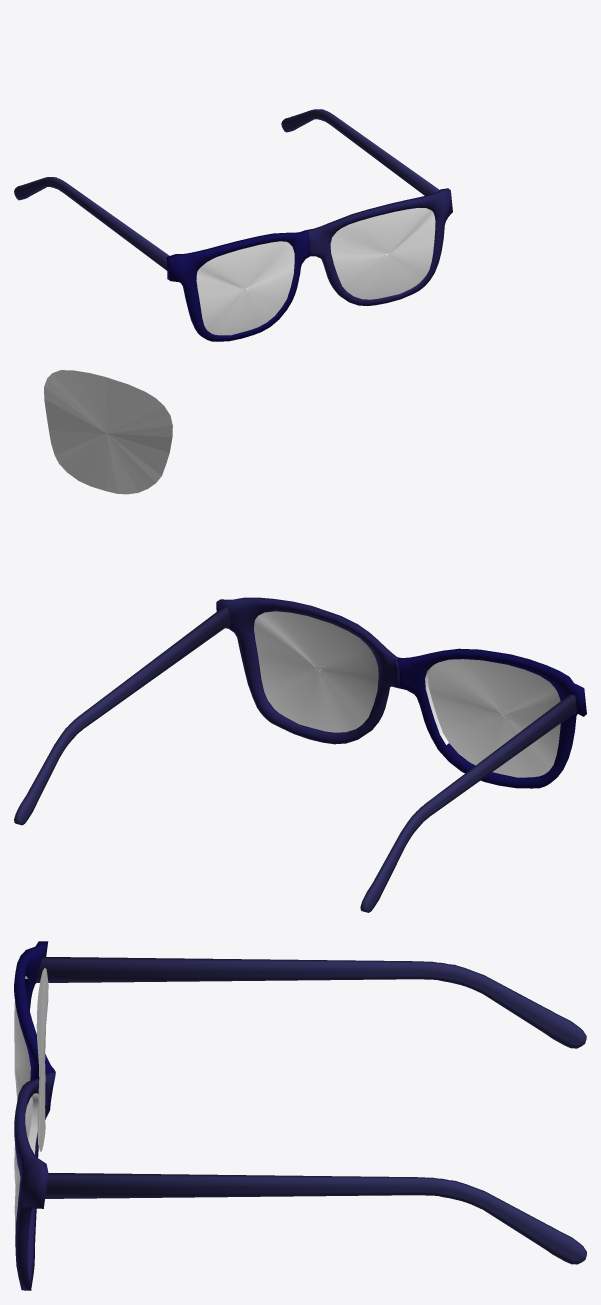
Rendered from asset.glb.
3 views of the same model, one above another, from view 1: azimuth 30°, elevation 25°; view 2: azimuth 150°, elevation 25°; view 3: azimuth 270°, elevation 25° (orthographic). The views are drawn at different scales.
Parts seen in each view (by area): view 1: lens, lens.001, marco.001, marco, Plane.002, Plane.001; view 2: Circle.001, lens, lens.001, marco, marco.001, Plane.002, Plane.001; view 3: Plane.002, Plane.001, marco, marco.001, Circle.001, lens.001, lens.
Boxes of the visible parts, box(x1,y1,x2,y2) form: lens: box(330, 208, 435, 299); lens.001: box(196, 241, 294, 335); marco.001: box(166, 230, 310, 341); marco: box(306, 188, 452, 305); Plane.002: box(14, 177, 169, 270); Plane.001: box(281, 109, 439, 195); Circle.001: box(44, 370, 172, 494); lens: box(254, 611, 378, 732); lens.001: box(425, 659, 560, 777); marco: box(216, 597, 399, 744); marco.001: box(394, 648, 586, 788); Plane.002: box(360, 694, 576, 912); Plane.001: box(14, 607, 230, 825); Plane.002: box(36, 957, 586, 1048); Plane.001: box(45, 1173, 586, 1264); marco: box(14, 1071, 55, 1290); marco.001: box(14, 941, 55, 1110); Circle.001: box(36, 968, 48, 1151); lens.001: box(14, 976, 30, 1099); lens: box(14, 1093, 38, 1234).
Bounding box in the file's own units: 3.97 × 2.21 × 2.8.
